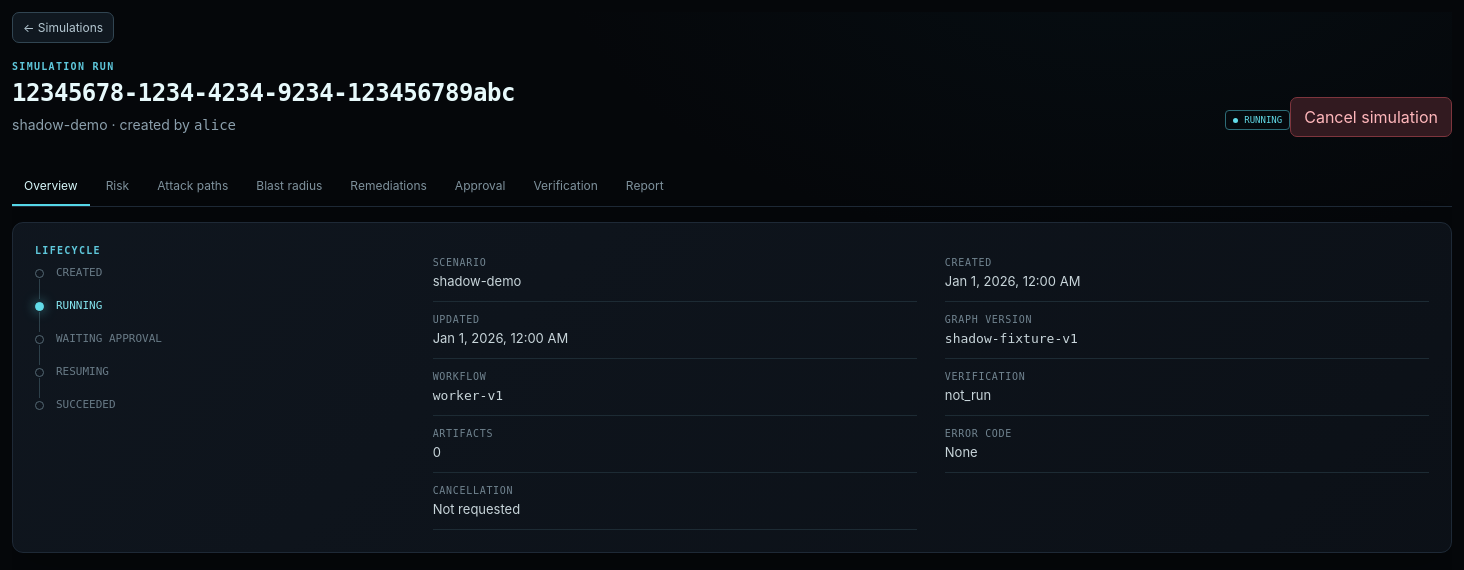
Test case: SimulationDetailPage durable lifecycle › confirms cooperative cancellation and renders CANCELLED
Expected: the text "12345678-1234-4234-9234-123456789abc" is shown, [12,79,515,107]
Click the button "Cancel simulation" at (1371, 117), box [1290,97,1452,137]
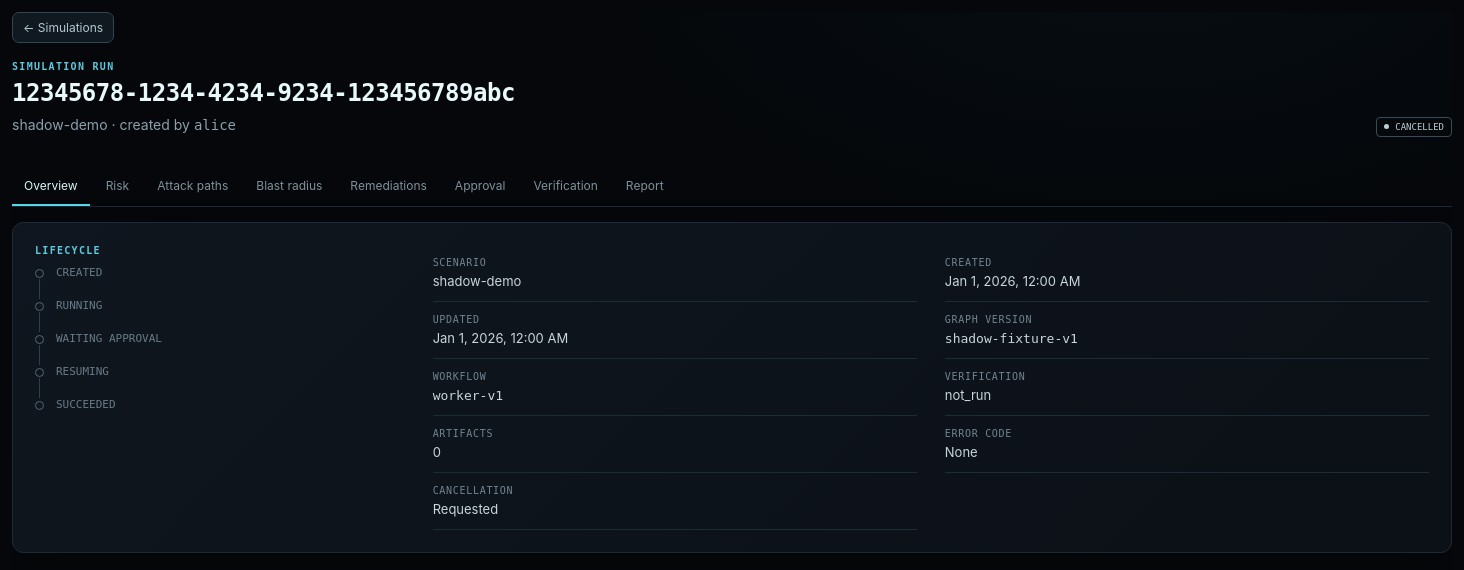
Expected: the text "cancelled" is shown, [1376,117,1452,137]
